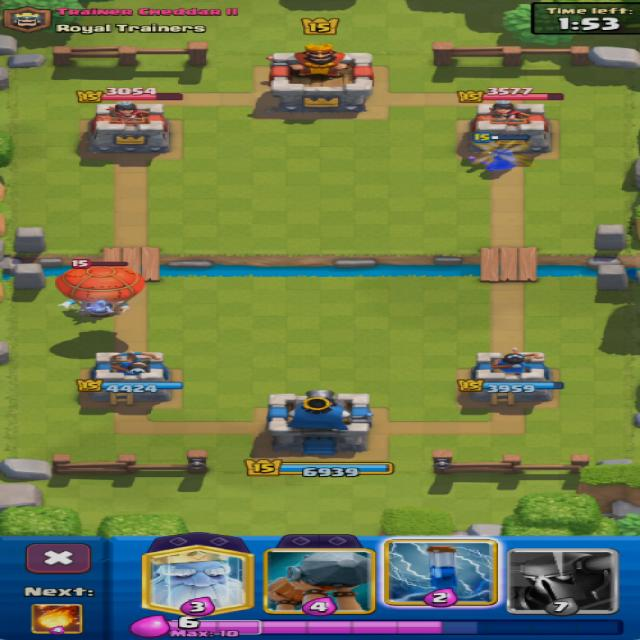Enemy-Balloon: (54, 265, 147, 318)
Enemy-KingTower: (269, 44, 372, 113)
Enemy-PrincessTower: (466, 100, 554, 153), (87, 102, 169, 154)
Player-Bandit: (470, 141, 526, 171)
Player-KingTower-Activated: (266, 390, 372, 455)
Player-PrincessTower: (77, 352, 182, 404), (462, 349, 554, 404)
